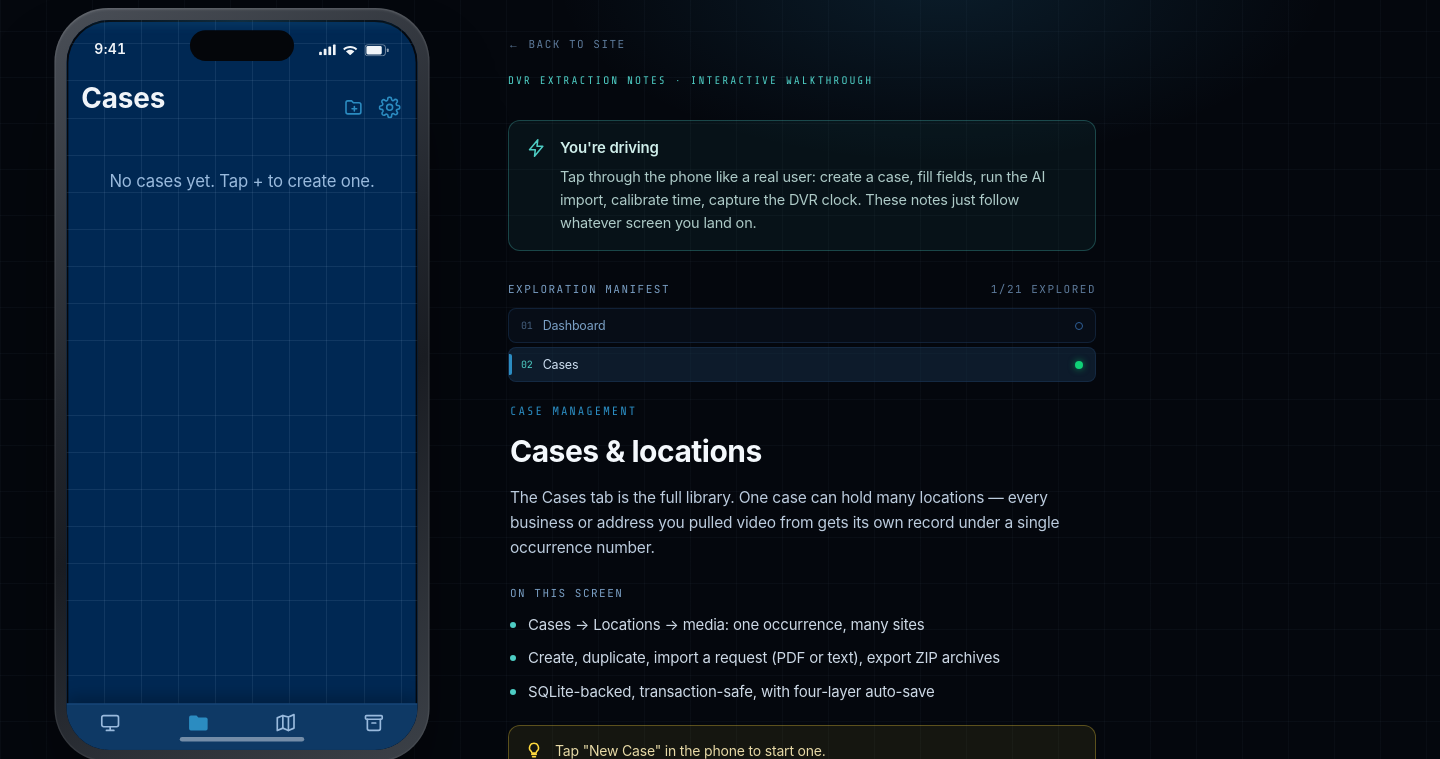
Test case: DemoExperience (sandbox-only boot) › narration follows the open modal (New case → Create a Case copy on the rail)
Click the button named "New case" at [354, 107], box [343,96,366,118]
(page scrolled)
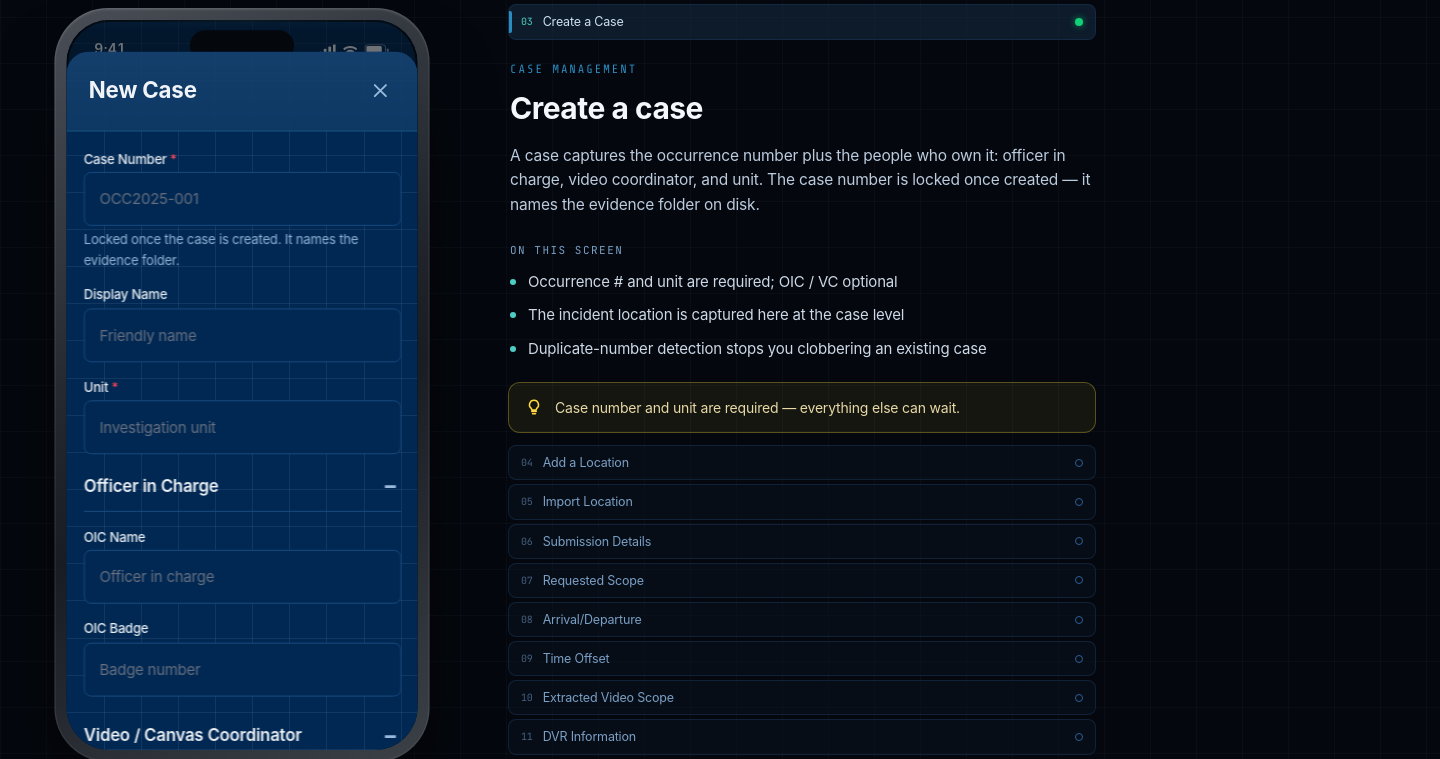
Expected: the heading "Create a case" is shown, [510,90,703,126]
Expected: the heading "Cases & locations" is gone
